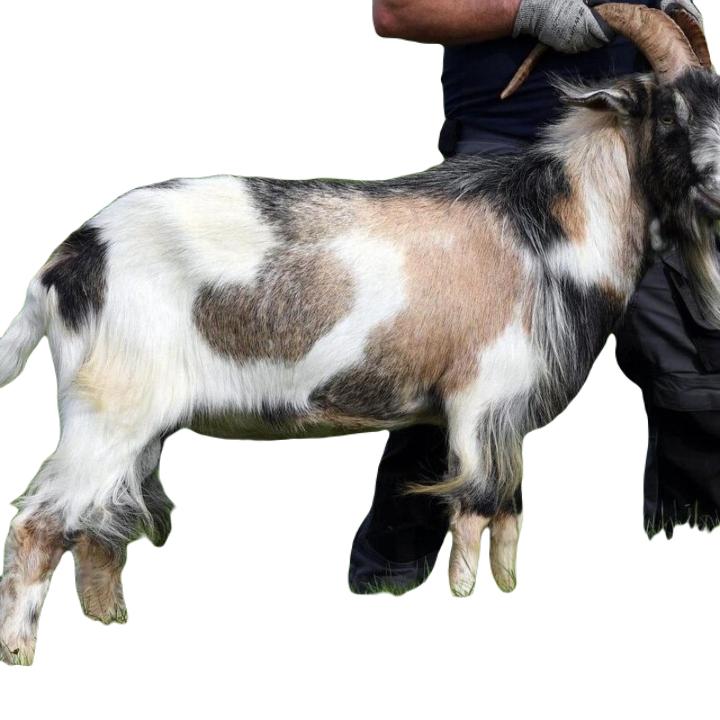Goat: (0, 0, 719, 670)
